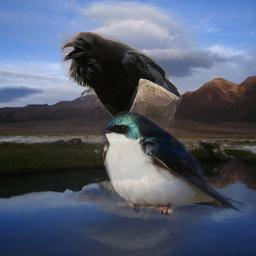Crow: (61, 32, 182, 179)
Swallow: (95, 110, 248, 215)
